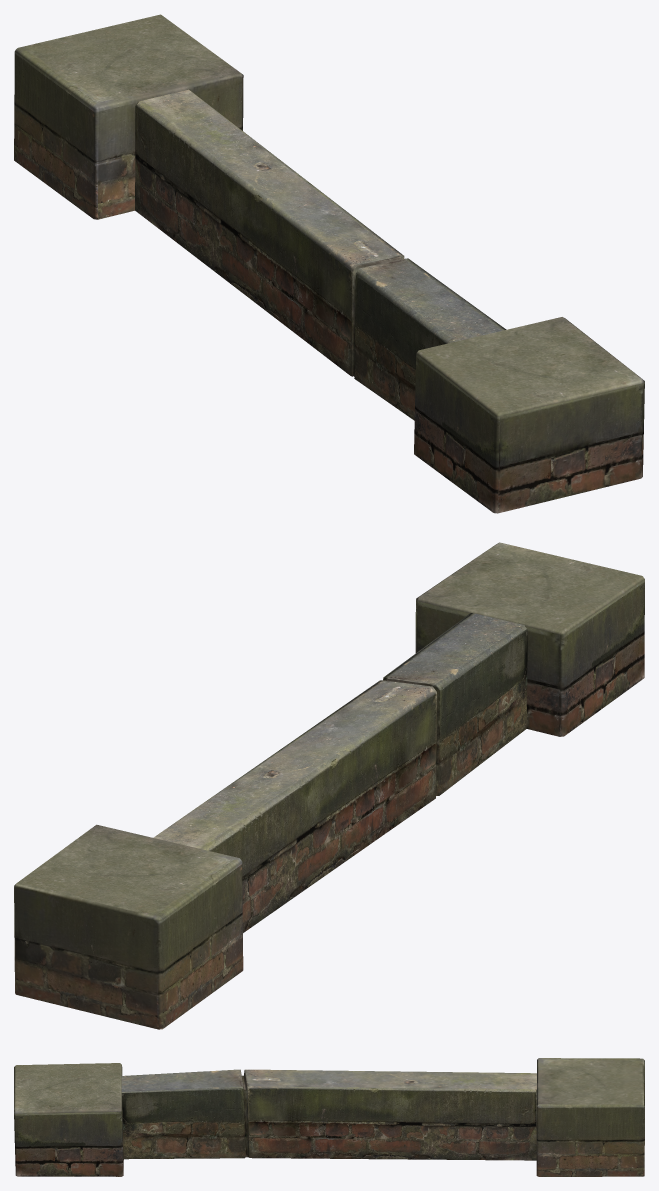
Rendered from sm_PlatformColumns_01_07.fbx.
3 renders of one model, top to bottom at view 1: azimuth 30°, elevation 25°; view 2: azimuth 150°, elevation 25°; view 3: azimuth 270°, elevation 25°, orthographic. The views are drawn at different scales.
Visible parts, largest first — view 1: sm_PlatformColumns_01_07_LOD0; view 2: sm_PlatformColumns_01_07_LOD0; view 3: sm_PlatformColumns_01_07_LOD0.
Boxes of the visible parts, left/top/right/bottom form: sm_PlatformColumns_01_07_LOD0: left=14, top=14, right=644, bottom=513; sm_PlatformColumns_01_07_LOD0: left=14, top=542, right=644, bottom=1029; sm_PlatformColumns_01_07_LOD0: left=14, top=1058, right=644, bottom=1176.
Bounding box in the file's own units: 51.11 × 285 × 36.22.
